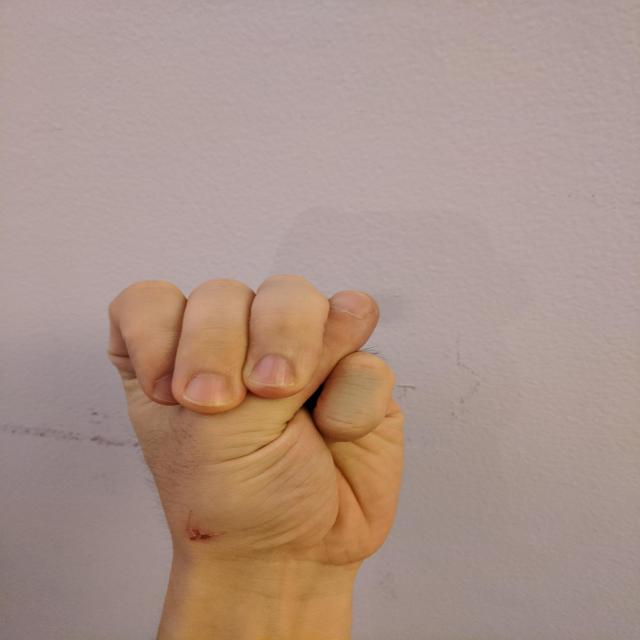M: (92, 270, 420, 570)
